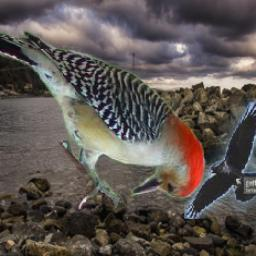Crow: (185, 99, 256, 220)
Woodpecker: (0, 26, 209, 212)
